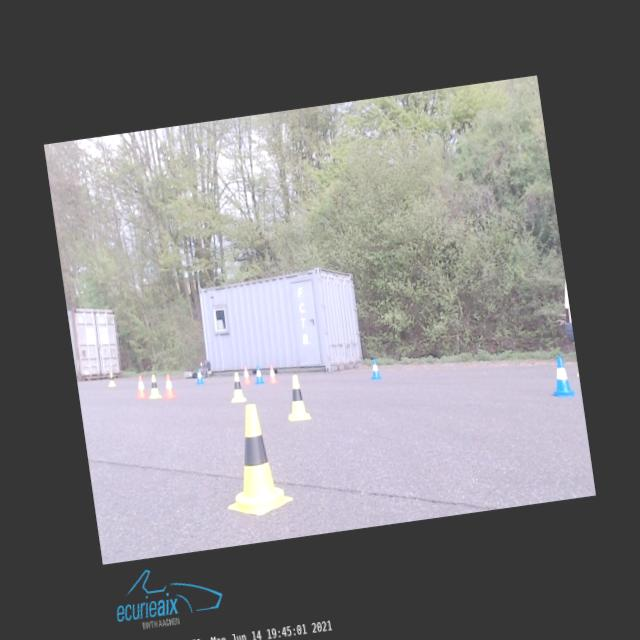blue_cone: (546, 354, 576, 398), (368, 358, 382, 380), (253, 364, 264, 384), (194, 368, 204, 384)
orange_cone: (162, 372, 178, 398), (134, 375, 148, 399), (240, 365, 252, 385), (266, 364, 278, 384)
yellow_cone: (214, 400, 295, 520), (282, 374, 311, 422), (226, 371, 248, 403), (146, 374, 162, 399), (106, 372, 115, 386)
